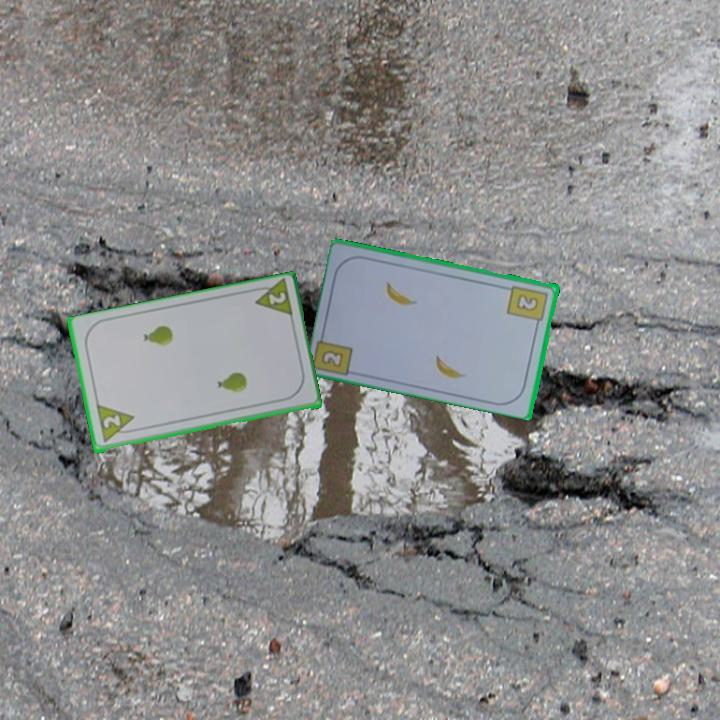2b: (504, 281, 551, 330), (318, 346, 347, 370)
2p: (248, 277, 295, 322), (93, 402, 139, 447)
